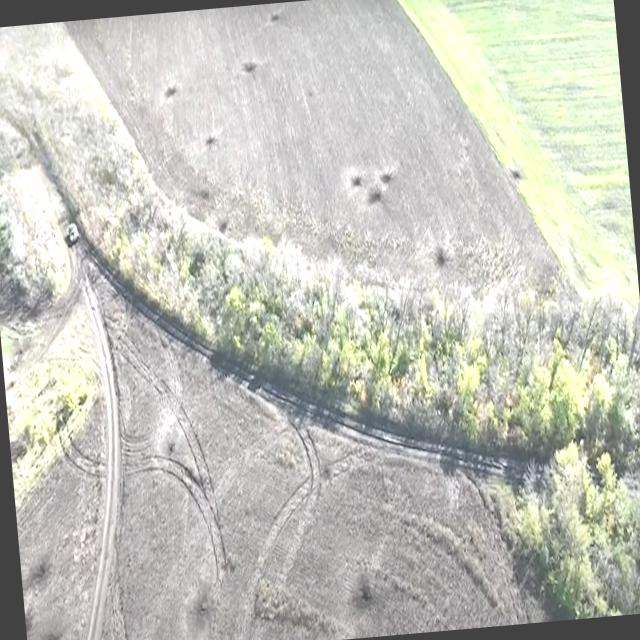MBT: (65, 221, 82, 247)
